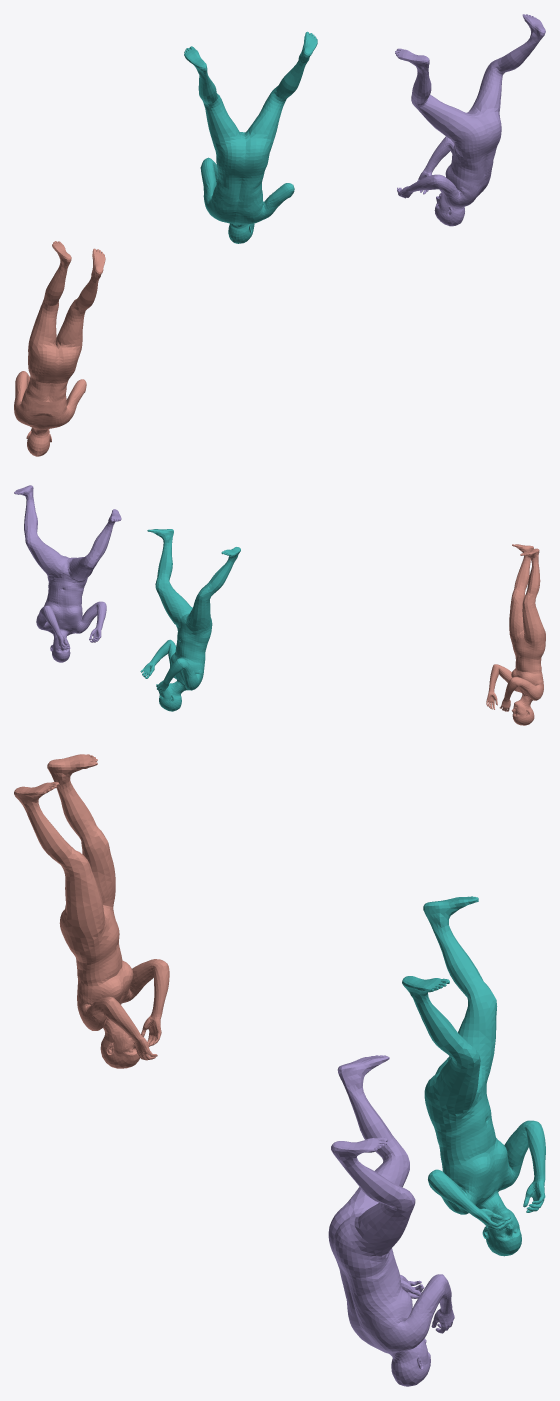
Rendered from all_people_native_world.glb.
3 views of the same model, one above another, from view 1: azimuth 30°, elevation 25°; view 2: azimuth 150°, elevation 25°; view 3: azimuth 270°, elevation 25° (orthographic). The views are drawn at different scales.
Parts seen in each view (by area): view 1: persistent_id_2_slot_2, persistent_id_1_slot_1, persistent_id_0_slot_0; view 2: persistent_id_2_slot_2, persistent_id_1_slot_1, persistent_id_0_slot_0; view 3: persistent_id_1_slot_1, persistent_id_2_slot_2, persistent_id_0_slot_0.
Part boxes in pixels (x1,y1,x2,y2): persistent_id_2_slot_2: (395,14,545,226); persistent_id_1_slot_1: (184,31,317,243); persistent_id_0_slot_0: (14,241,105,456); persistent_id_2_slot_2: (14,485,121,662); persistent_id_1_slot_1: (140,529,240,711); persistent_id_0_slot_0: (486,544,545,725); persistent_id_1_slot_1: (402,896,545,1256); persistent_id_2_slot_2: (328,1055,454,1386); persistent_id_0_slot_0: (14,754,169,1068).
Bounding box in the file's own units: 4.73 × 1.86 × 2.47.
